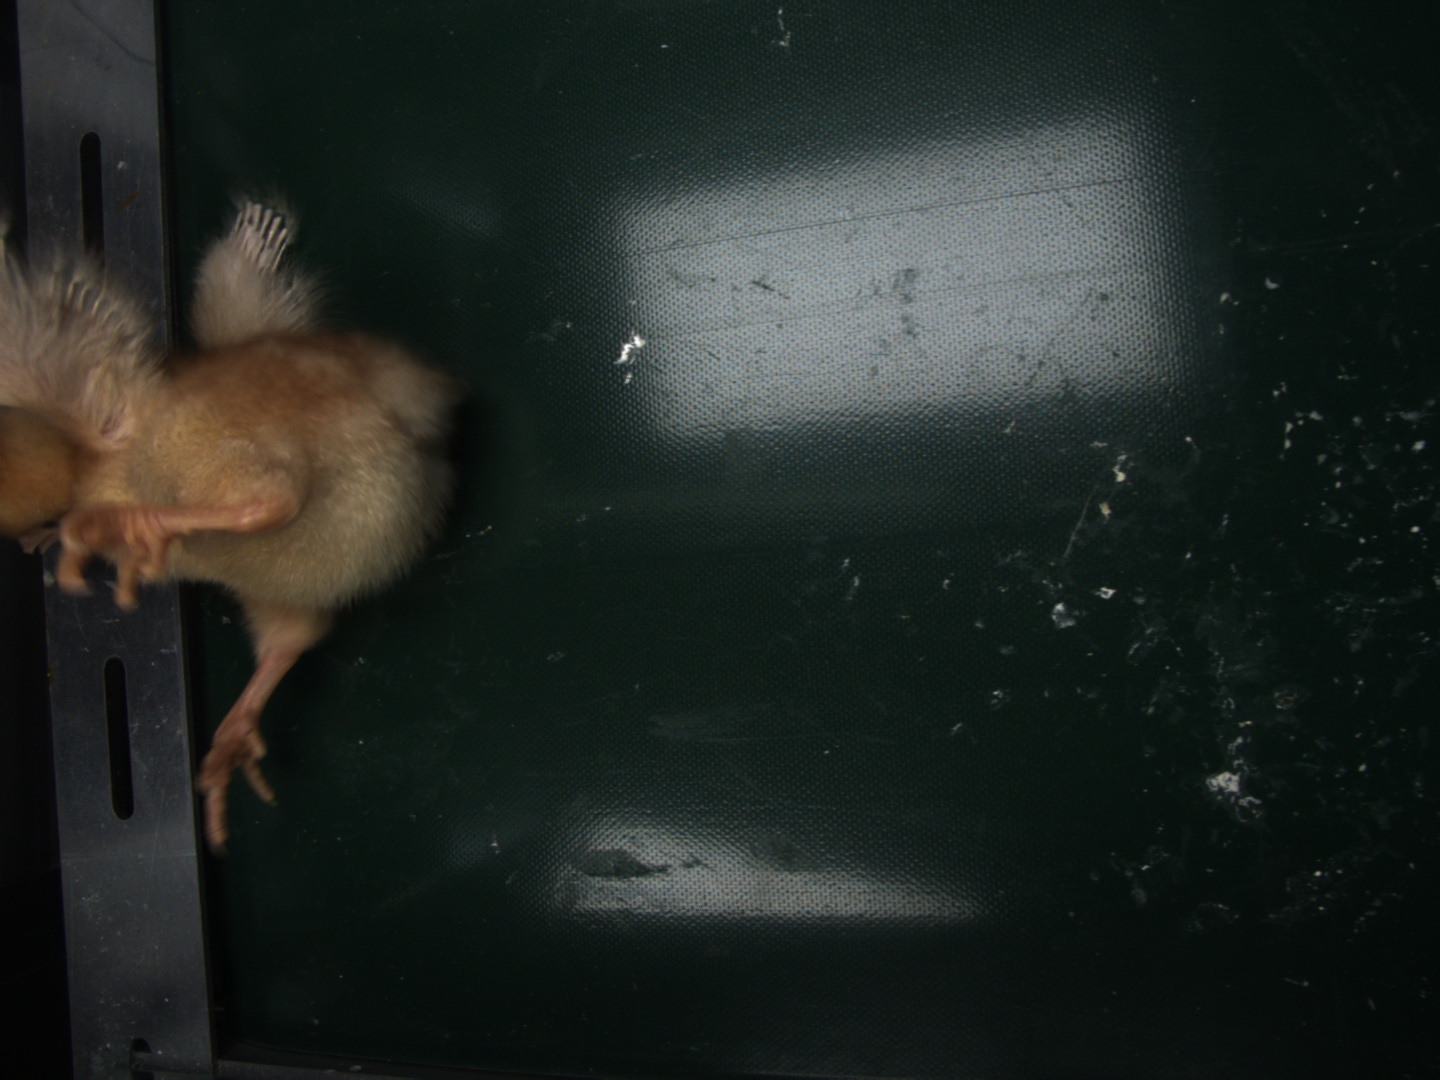female: (229, 200, 293, 285)
